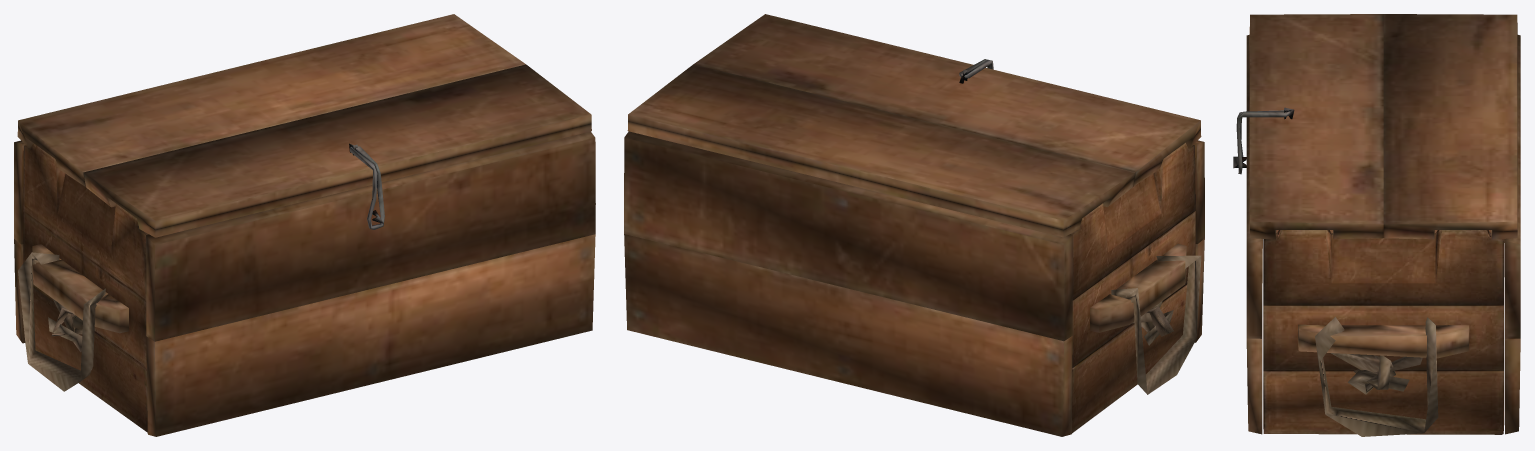
File: wooden_crate_01.glb
3 renders of one model, left to right at view 1: azimuth 30°, elevation 25°; view 2: azimuth 150°, elevation 25°; view 3: azimuth 270°, elevation 25°, orthographic. The views are drawn at different scales.
Visible parts, largest first — view 1: wooden_crate_01, wooden_crate_01_lid, wooden_crate_01_latch; view 2: wooden_crate_01, wooden_crate_01_lid; view 3: wooden_crate_01_lid, wooden_crate_01, wooden_crate_01_latch.
Part boxes in pixels (x1,y1,x2,y2): wooden_crate_01: [14, 131, 595, 436]; wooden_crate_01_lid: [17, 14, 591, 237]; wooden_crate_01_latch: [350, 146, 384, 229]; wooden_crate_01: [624, 131, 1204, 436]; wooden_crate_01_lid: [627, 14, 1201, 237]; wooden_crate_01_lid: [1249, 14, 1517, 239]; wooden_crate_01: [1233, 34, 1520, 436]; wooden_crate_01_latch: [1236, 110, 1290, 174].
Size of the model in its own units: 0.818 by 0.3469 by 0.4043.
Materials: 1 (1 with a texture image).
